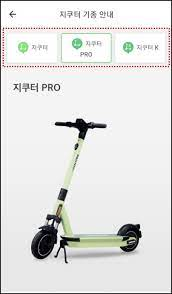kick_board: (29, 119, 142, 257)
kick_body: (67, 234, 118, 246)
kick_handler: (55, 118, 107, 138)
kick_neck: (53, 141, 82, 213)
kick_wheel: (32, 227, 56, 258), (119, 224, 142, 252)
